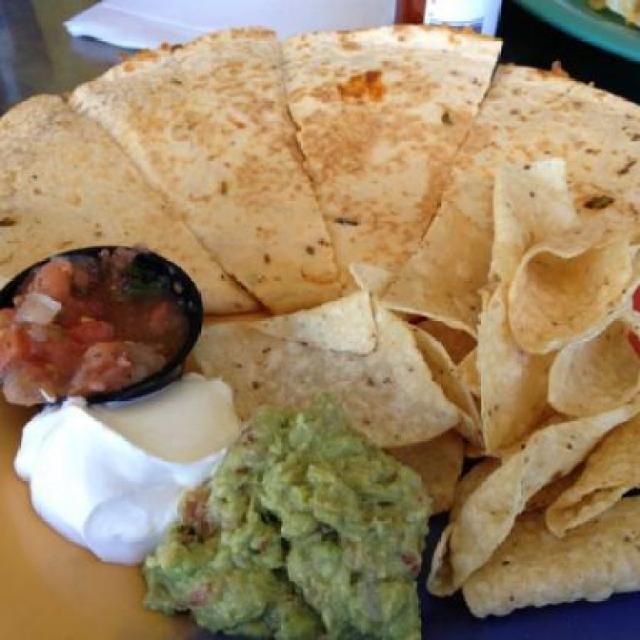guacamole: (150, 395, 444, 639)
nachos: (213, 158, 639, 630)
